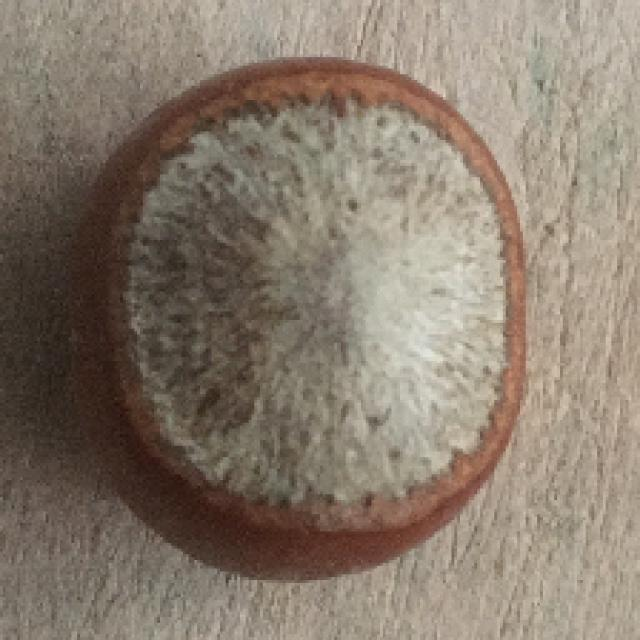qualityHazelnut: (66, 62, 533, 571)
